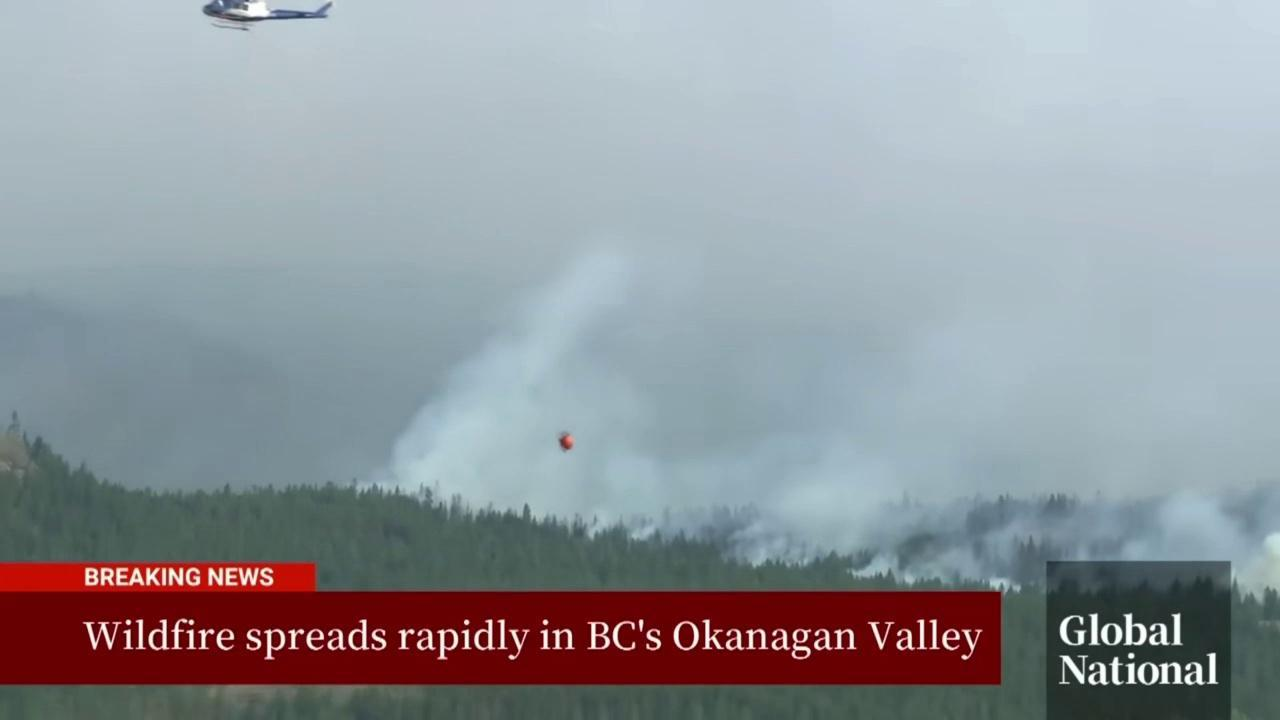smoke: (0, 0, 1280, 589)
